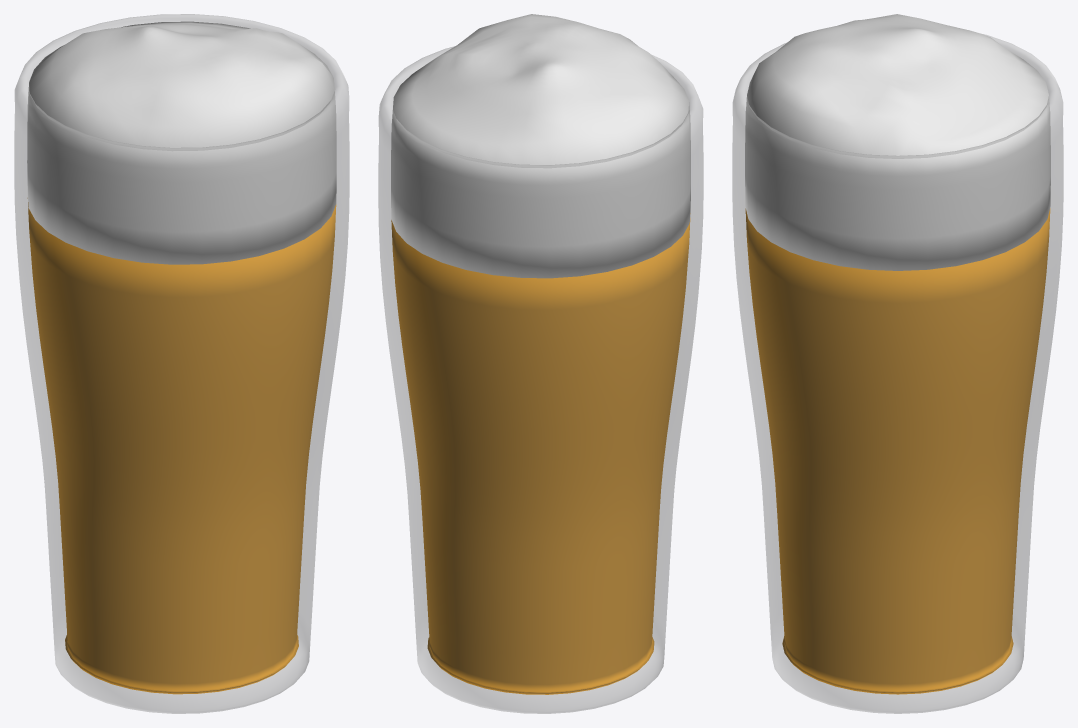
File: beer.glb
The picture shows the model from 3 angles, left to right: view 1: azimuth 30°, elevation 25°; view 2: azimuth 150°, elevation 25°; view 3: azimuth 270°, elevation 25°; orthographic projection. The views are drawn at different scales.
Visible parts, largest first — view 1: glass, beer, foam; view 2: glass, beer, foam; view 3: glass, beer, foam.
Boxes of the visible parts, x1,y1,x2,y2 form: glass: (14, 14, 349, 713); beer: (27, 198, 336, 694); foam: (27, 21, 336, 264); glass: (378, 46, 703, 713); beer: (391, 213, 690, 694); foam: (391, 14, 690, 278); glass: (732, 33, 1063, 713); beer: (745, 208, 1050, 694); foam: (745, 14, 1050, 270).
Size of the model in its own units: 2.09 by 4.33 by 2.09.
